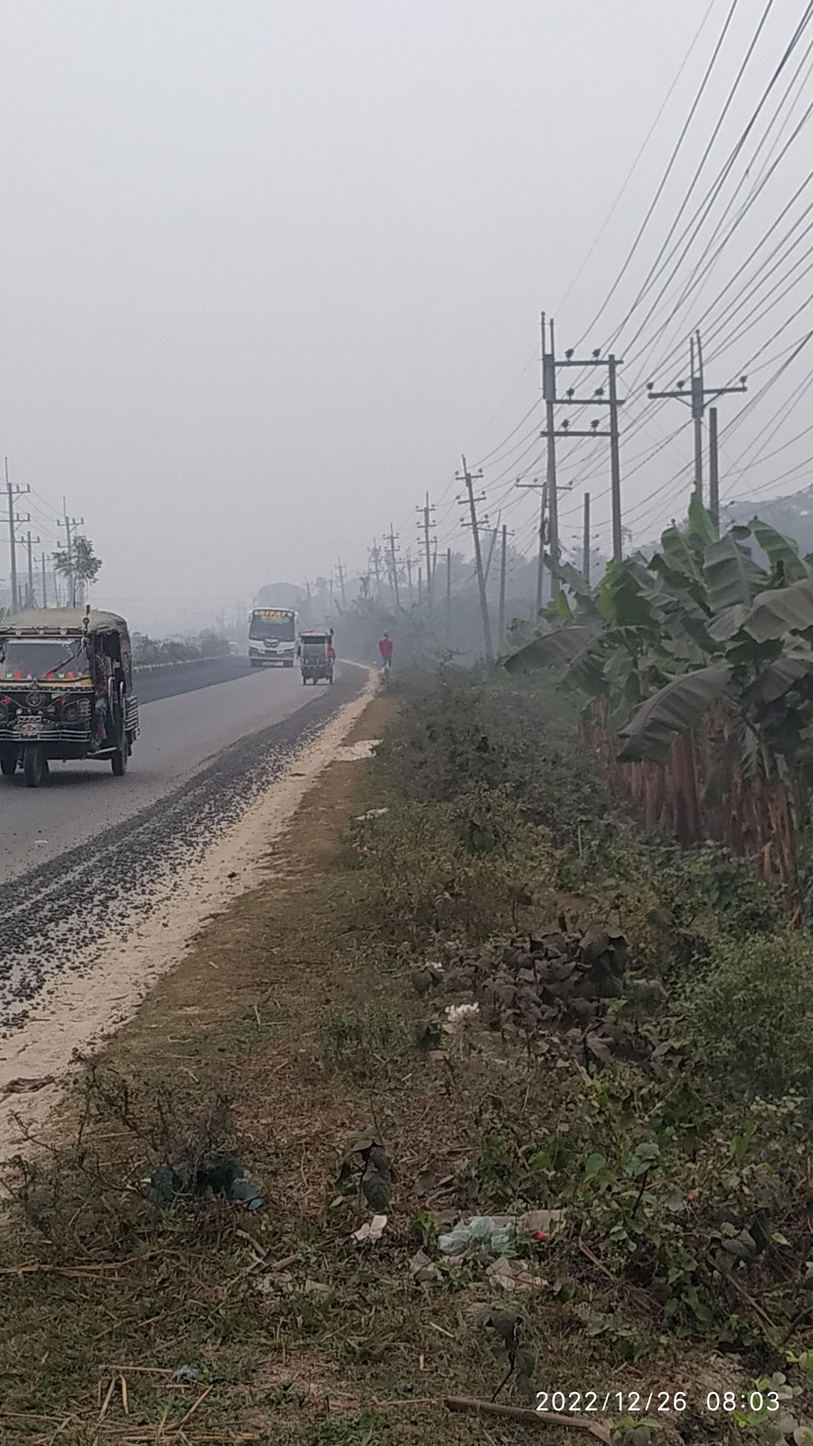Bus: (242, 601, 304, 678)
Car: (286, 622, 352, 696)
